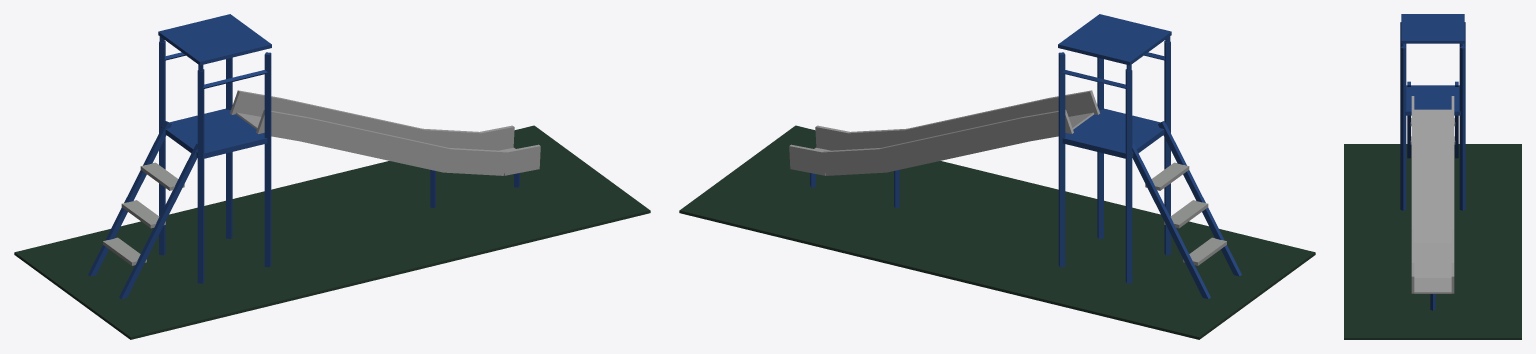
Rendered from SM_Prop_play_slide_0_LOD1.glb.
The picture shows the model from 3 angles, left to right: view 1: azimuth 30°, elevation 25°; view 2: azimuth 150°, elevation 25°; view 3: azimuth 270°, elevation 25°; orthographic projection. The views are drawn at different scales.
Parts seen in each view (by area): view 1: SM_Prop_play_slide_0_LOD1; view 2: SM_Prop_play_slide_0_LOD1; view 3: SM_Prop_play_slide_0_LOD1.
Part boxes in pixels (bbox=[...]): SM_Prop_play_slide_0_LOD1: bbox=[14, 14, 650, 339]; SM_Prop_play_slide_0_LOD1: bbox=[679, 14, 1315, 339]; SM_Prop_play_slide_0_LOD1: bbox=[1344, 14, 1521, 339].
Size of the model in its own units: 6.2 by 2.63 by 2.4.
